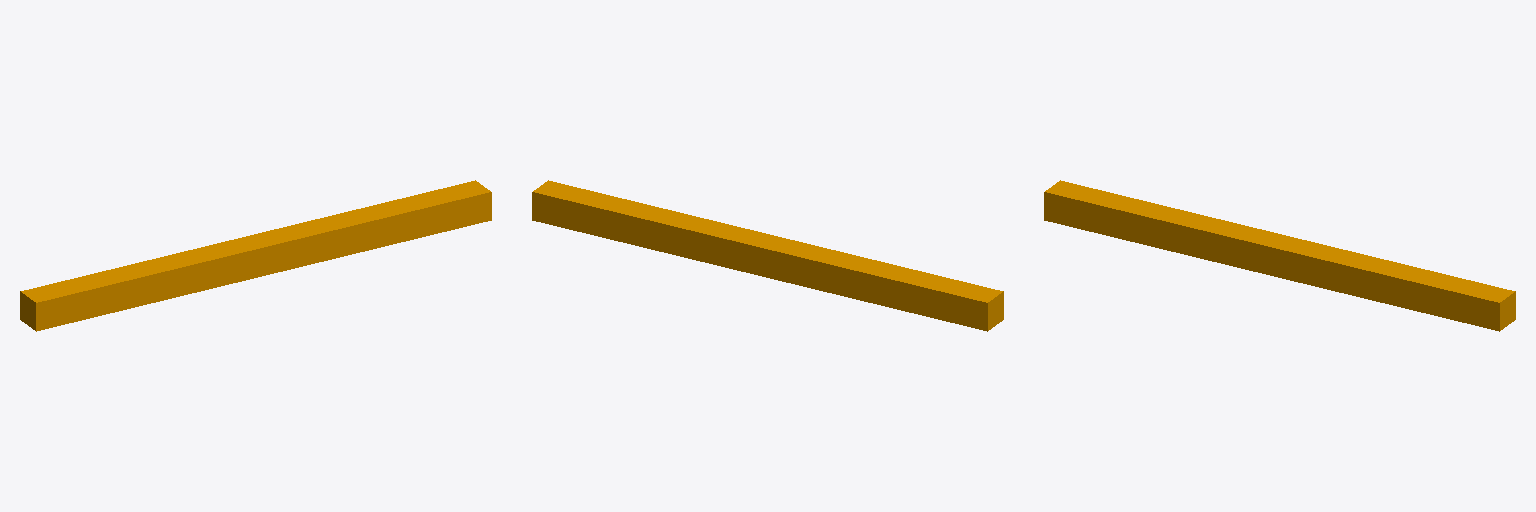
The robot description file, URDF, robot "simple_box":
<?xml version='1.0' encoding='UTF-8'?>
<robot name="simple_box">
  <link name="my_box">
    <visual>
      <geometry>
        <box size=" 0.5   0.03  0.03"/>
      </geometry>
      <origin xyz="1.0 0.0 0.0" rpy="0.0 -0.0 0.0"/>
    </visual>
    <collision>
      <geometry>
        <box size=" 0.5   0.03  0.03"/>
      </geometry>
      <origin xyz="1.0 0.0 0.0" rpy="0.0 -0.0 0.0"/>
    </collision>
    <inertial>
      <origin xyz="1.0 0.0 0.0" rpy="0.0 -0.0 0.0"/>
      <mass value="1.0"/>
      <inertia ixx="1.0" ixy="0.0" ixz="0.0" iyy="100.0" iyz="0.0" izz="1.0"/>
    </inertial>
  </link>
  <gazebo reference="my_box">
    <material>Gazebo/Blue</material>
  </gazebo>
</robot>

--- Facts derived from the render (not from the file) ---
3 views of the same robot in one strip: view 1: azimuth 30°, elevation 25°; view 2: azimuth 150°, elevation 25°; view 3: azimuth 330°, elevation 25° (orthographic).
Model simple_box with 1 links and 0 joints (none), rooted at my_box, posed every joint at zero.
Links seen in each view (by area): view 1: my_box; view 2: my_box; view 3: my_box.
Boxes of the visible links, x1=… form: my_box: x1=20, y1=180, x2=491, y2=331; my_box: x1=532, y1=180, x2=1003, y2=331; my_box: x1=1044, y1=180, x2=1515, y2=331.
Size in the robot's own frame: 0.5 by 0.03 by 0.03 metres.
Geometry: primitives only (box / cylinder / sphere), no mesh files.